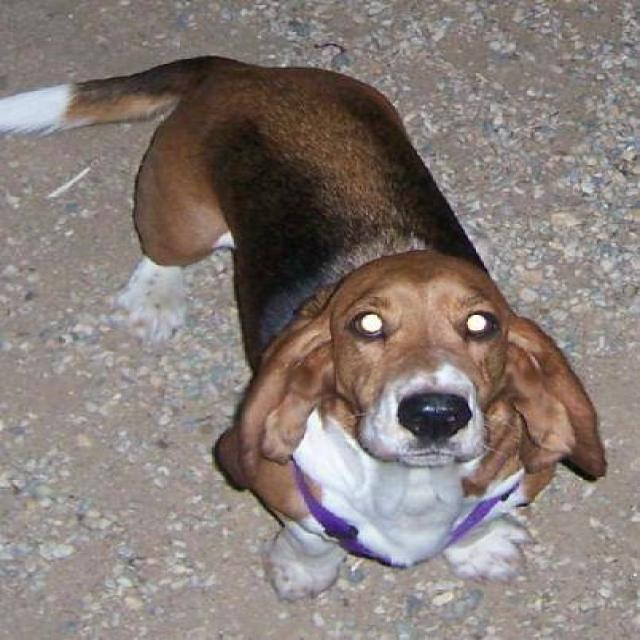dog: (0, 52, 608, 600)
